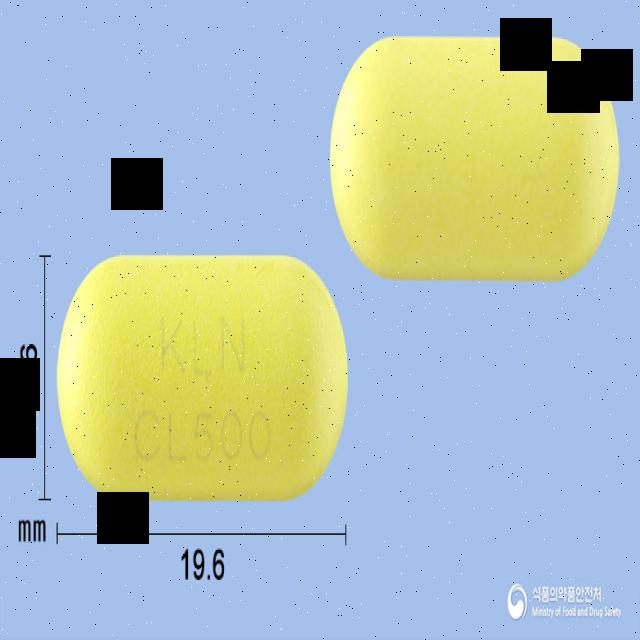New Clato Tab-500mg: (56, 254, 348, 501)
